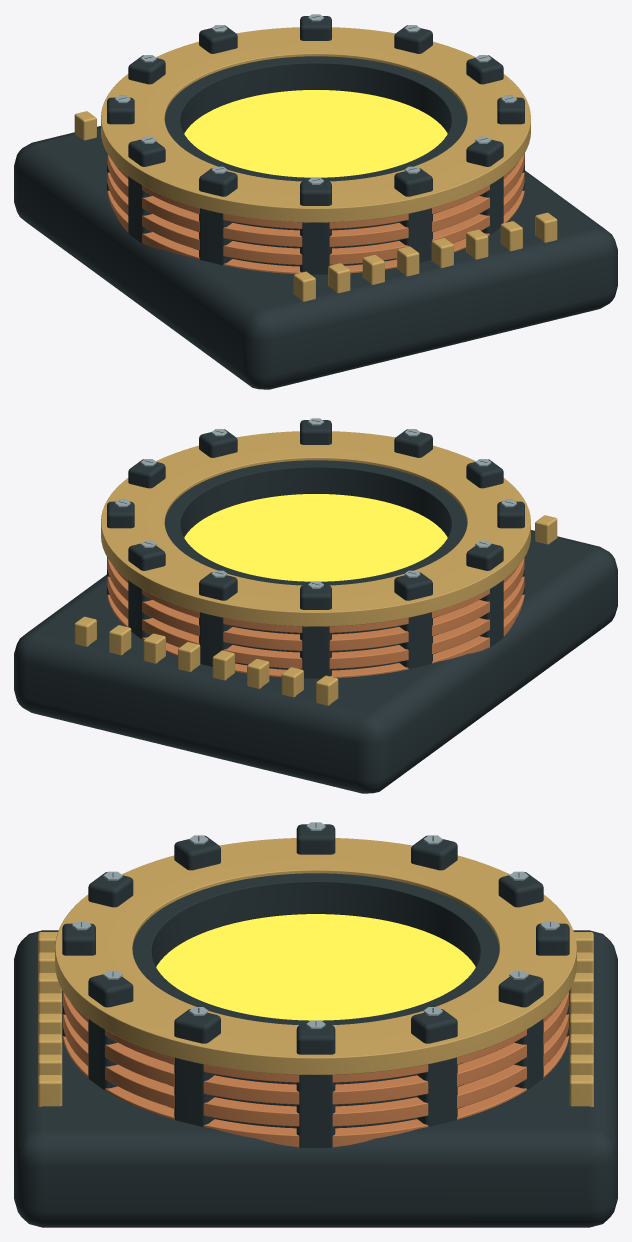
Rendered from SM_VFurnace.fbx.
3 renders of one model, top to bottom at view 1: azimuth 30°, elevation 25°; view 2: azimuth 150°, elevation 25°; view 3: azimuth 270°, elevation 25°, orthographic. The views are drawn at different scales.
Visible parts, largest first — view 1: SM_VFurnace; view 2: SM_VFurnace; view 3: SM_VFurnace.
Part boxes in pixels (box(x1,y1,x2,y2)): SM_VFurnace: box(14, 14, 617, 389); SM_VFurnace: box(14, 418, 617, 793); SM_VFurnace: box(14, 822, 617, 1227).
Bounding box in the file's own units: 216 × 250 × 92.59.
